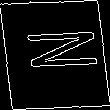N_E: (10, 33, 100, 77)
